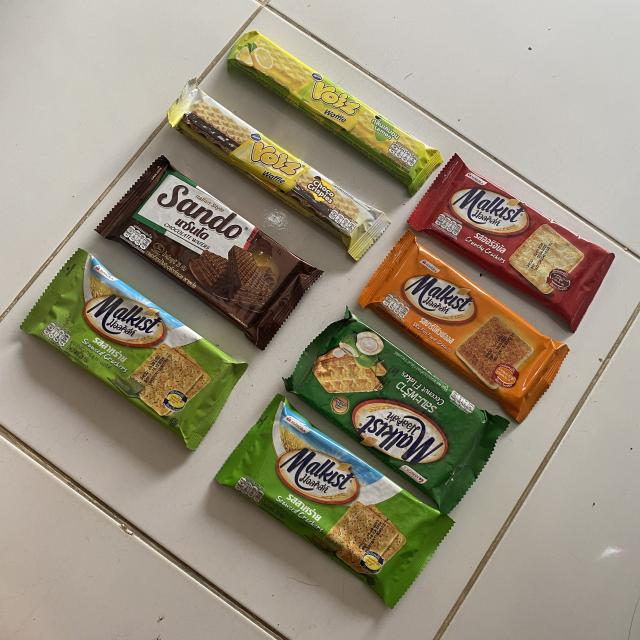plastik: (216, 395, 454, 608), (285, 310, 509, 514), (21, 249, 248, 450), (96, 156, 322, 349), (359, 230, 569, 422), (168, 80, 390, 260), (409, 155, 614, 331), (228, 30, 442, 195)
